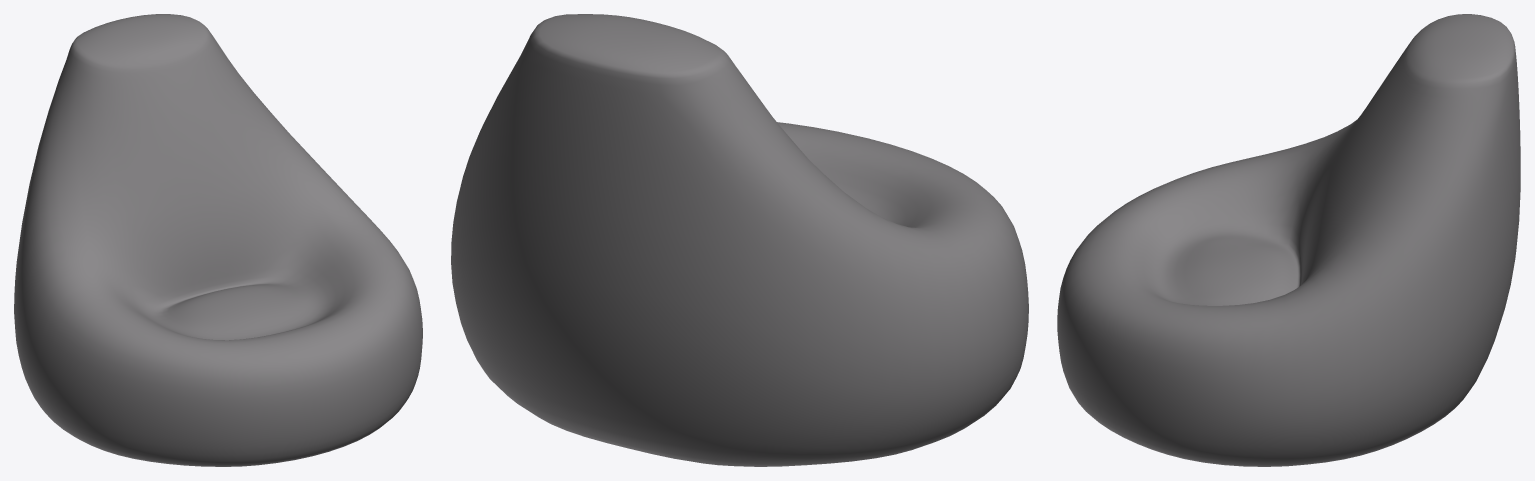
File: chair3.fbx
3 views of the same model, side by side, from view 1: azimuth 30°, elevation 25°; view 2: azimuth 150°, elevation 25°; view 3: azimuth 270°, elevation 25° (orthographic). The views are drawn at different scales.
Visible parts, largest first — view 1: node_id5; view 2: node_id5; view 3: node_id5.
Part boxes in pixels (bbox=[...]): node_id5: bbox=[14, 14, 422, 466]; node_id5: bbox=[451, 14, 1028, 466]; node_id5: bbox=[1057, 14, 1520, 466].
Bounding box in the file's own units: 0.512 × 0.4177 × 0.5078.
Materials: 1 (1 with a texture image).
